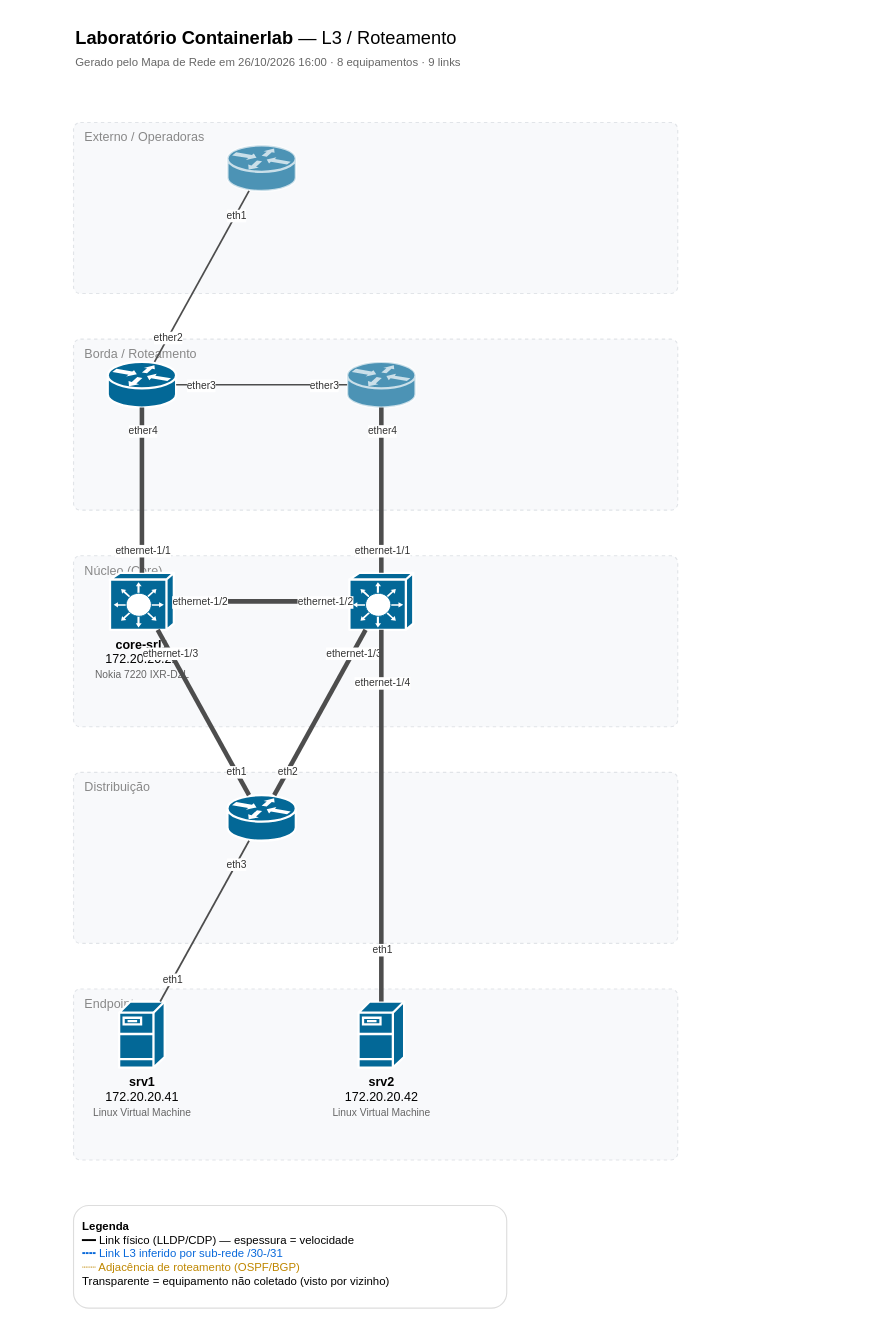
This 891x1328 diagram has some shape labels left out. The centre of each missing label's shape, as x and y in pixels:
"core-srl2 172.20.20.22 Nokia 7220 IXR-D2L" goes at (x=381, y=600).
"dist-frr1 172.20.20.31 Linux Virtual Machine" goes at (x=261, y=817).
"edge-mk1 172.20.20.11 MikroTik CHR QEMU Standard PC (i440FX + PIIX, 19" goes at (x=141, y=384).
"edge-mk2 10.10.2.1 MikroTik MikroTik RouterOS 7.16.2 (stable) 2024-" goes at (x=380, y=384).
"isp-pe 172.20.20.2 Linux" goes at (x=261, y=168).
